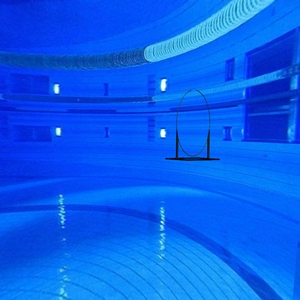circle: (164, 88, 222, 164)
